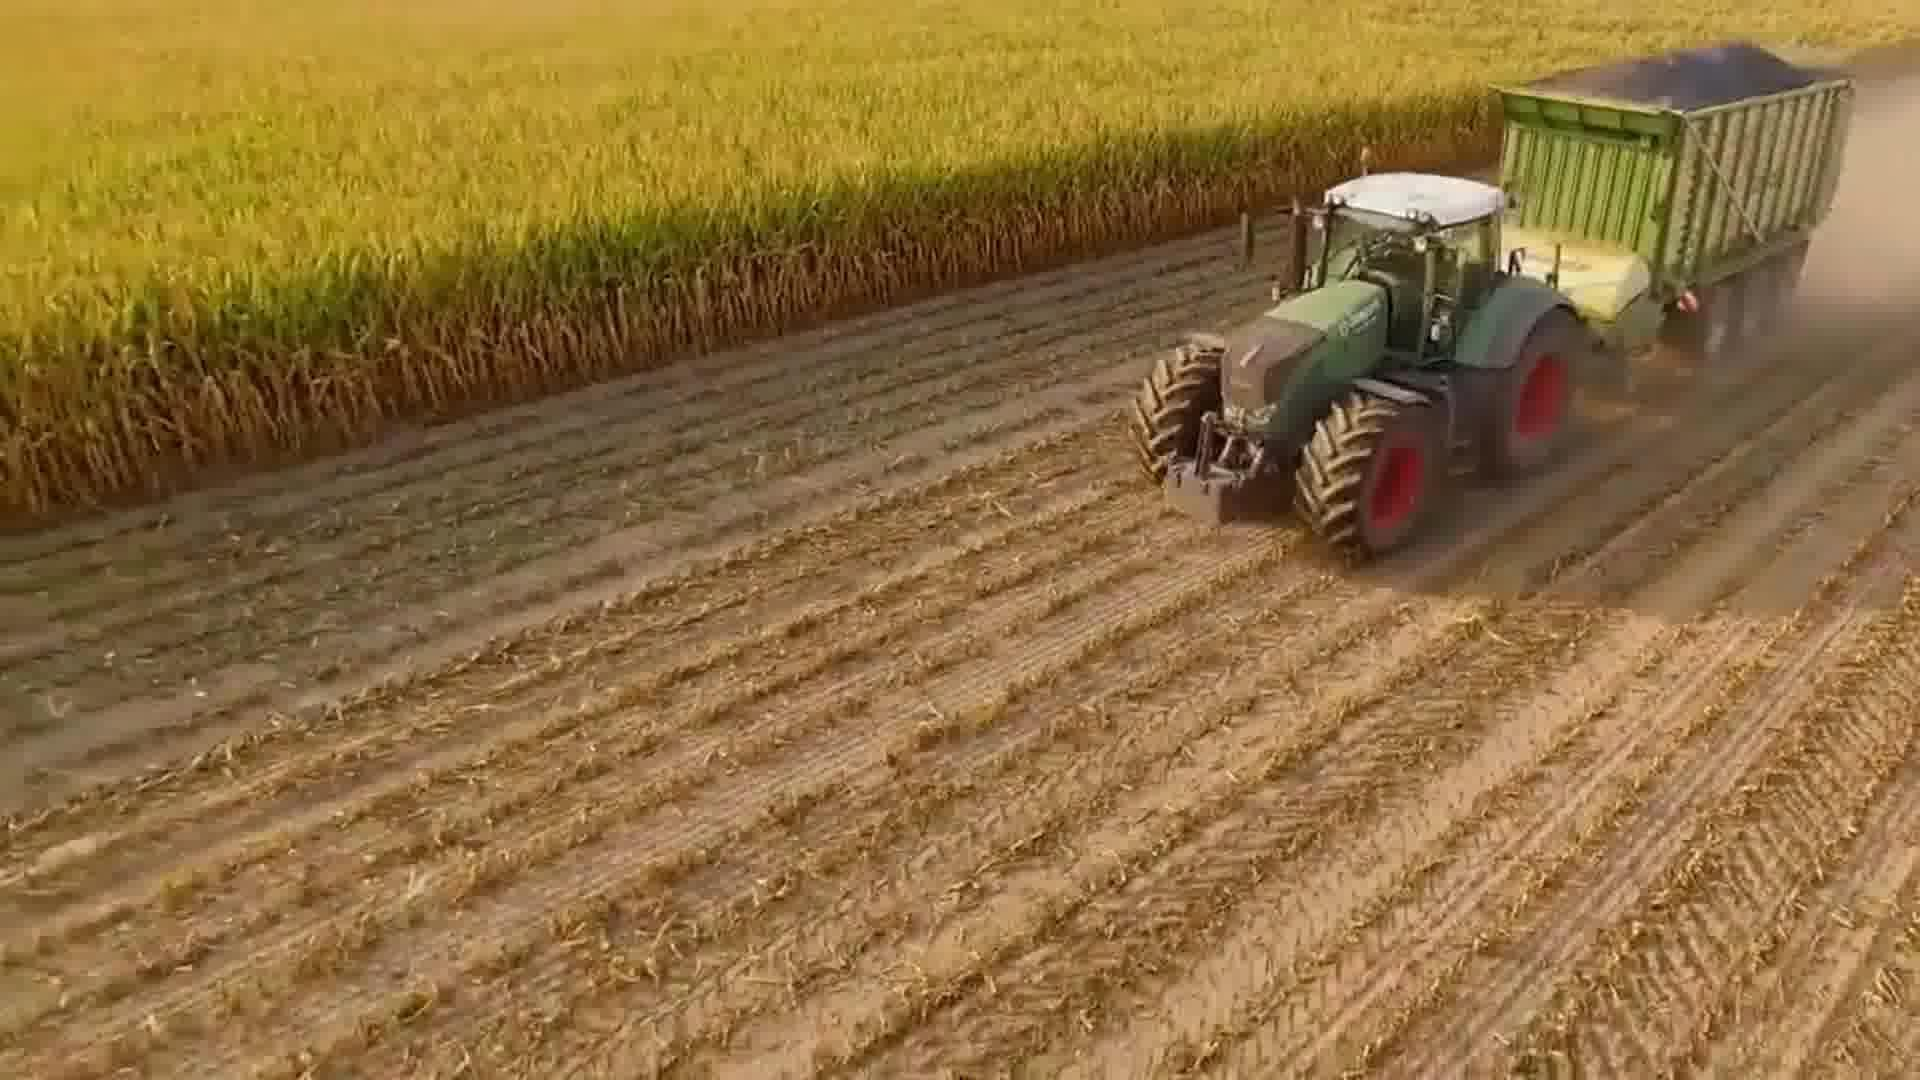tractor: (1109, 161, 1583, 573)
trailer: (1479, 33, 1856, 396)
